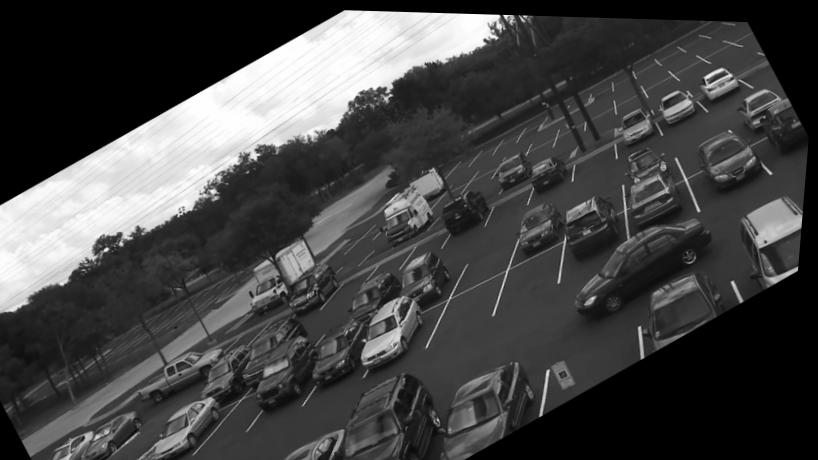empty: (550, 302, 639, 411), (430, 271, 497, 343), (506, 240, 567, 302), (206, 391, 263, 453), (467, 228, 514, 280), (572, 136, 620, 179), (673, 112, 724, 152), (329, 267, 376, 304), (165, 352, 213, 383), (371, 244, 417, 276), (492, 185, 532, 220), (198, 340, 239, 369), (352, 219, 389, 248), (233, 321, 272, 348), (723, 41, 762, 68), (644, 70, 682, 97), (739, 55, 775, 83), (411, 229, 448, 256), (581, 173, 617, 200), (673, 54, 710, 79), (553, 118, 586, 146), (586, 101, 619, 128), (311, 310, 346, 335), (617, 86, 649, 112), (465, 166, 497, 190), (703, 37, 741, 57), (667, 47, 700, 70), (437, 180, 468, 204), (561, 106, 589, 132), (612, 79, 645, 101), (639, 63, 671, 84), (612, 64, 638, 89), (449, 163, 478, 185), (522, 109, 546, 135), (587, 92, 614, 115), (532, 121, 560, 143), (687, 58, 715, 80), (506, 133, 533, 155), (476, 151, 505, 171), (632, 53, 660, 73), (497, 127, 521, 150), (530, 133, 557, 153), (695, 34, 724, 52), (721, 18, 750, 35), (591, 75, 614, 96), (656, 41, 681, 60), (451, 152, 476, 171), (475, 140, 497, 160), (702, 17, 728, 33), (680, 31, 706, 46), (732, 25, 756, 41), (475, 179, 501, 191), (552, 143, 572, 154)
occupied: (444, 351, 539, 460), (348, 369, 448, 460), (729, 186, 806, 285), (652, 260, 729, 346), (367, 292, 438, 367), (696, 118, 767, 187), (261, 333, 322, 405), (162, 395, 227, 460), (318, 316, 375, 387), (630, 161, 686, 228), (569, 189, 621, 261), (756, 89, 811, 153), (285, 261, 344, 317), (386, 182, 437, 244), (251, 315, 309, 369), (90, 410, 149, 460), (352, 269, 408, 320), (405, 248, 456, 298), (209, 342, 253, 399), (444, 187, 495, 236), (522, 200, 567, 252), (291, 423, 352, 460), (738, 84, 783, 122), (699, 62, 742, 100), (532, 152, 571, 192), (495, 148, 535, 186), (661, 85, 698, 121), (630, 145, 674, 175), (623, 103, 657, 141)
